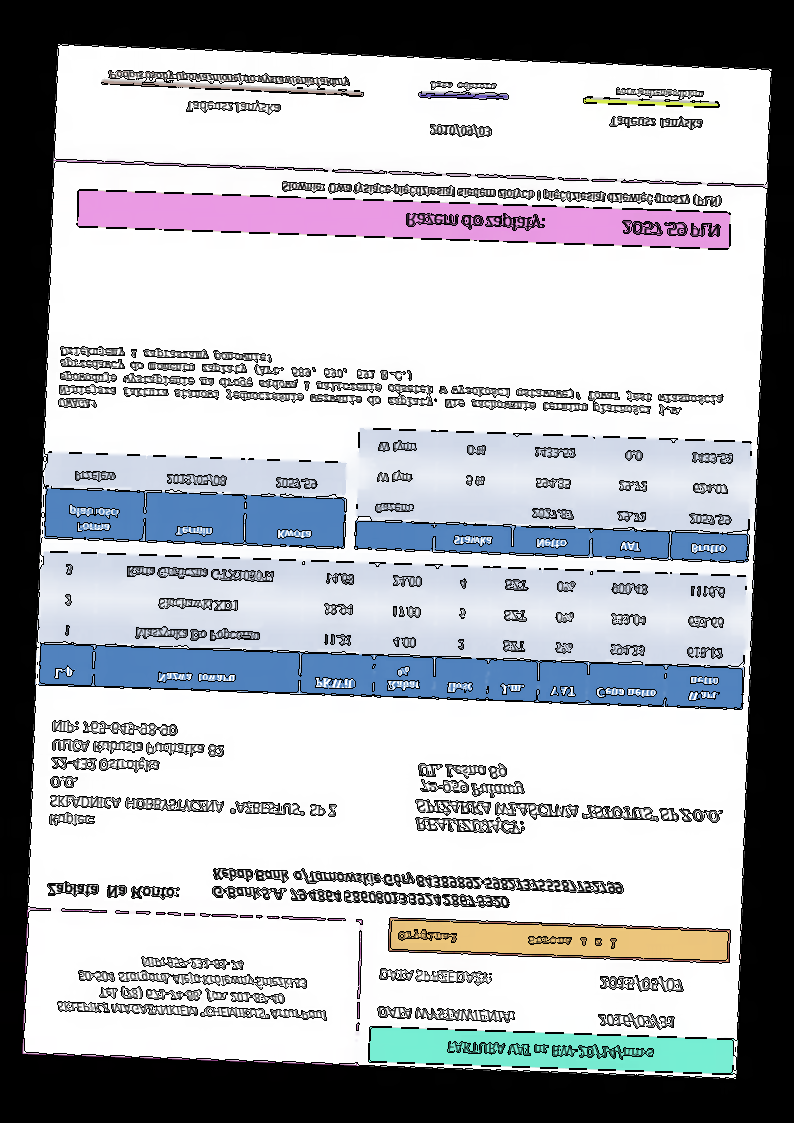Table: (37, 550, 749, 711), (353, 426, 752, 564), (42, 450, 348, 550)
TextBox: (56, 343, 729, 435), (45, 718, 342, 839), (411, 758, 727, 844), (51, 949, 331, 1028), (209, 864, 625, 917), (278, 177, 723, 211), (402, 209, 724, 245), (105, 66, 353, 94), (444, 1035, 656, 1067), (395, 926, 621, 953), (375, 1003, 517, 1028), (45, 880, 180, 904), (376, 964, 494, 990), (595, 971, 687, 996), (608, 112, 706, 135), (183, 98, 282, 119), (594, 1011, 677, 1033), (614, 84, 705, 101), (427, 122, 493, 142), (428, 78, 498, 94)
